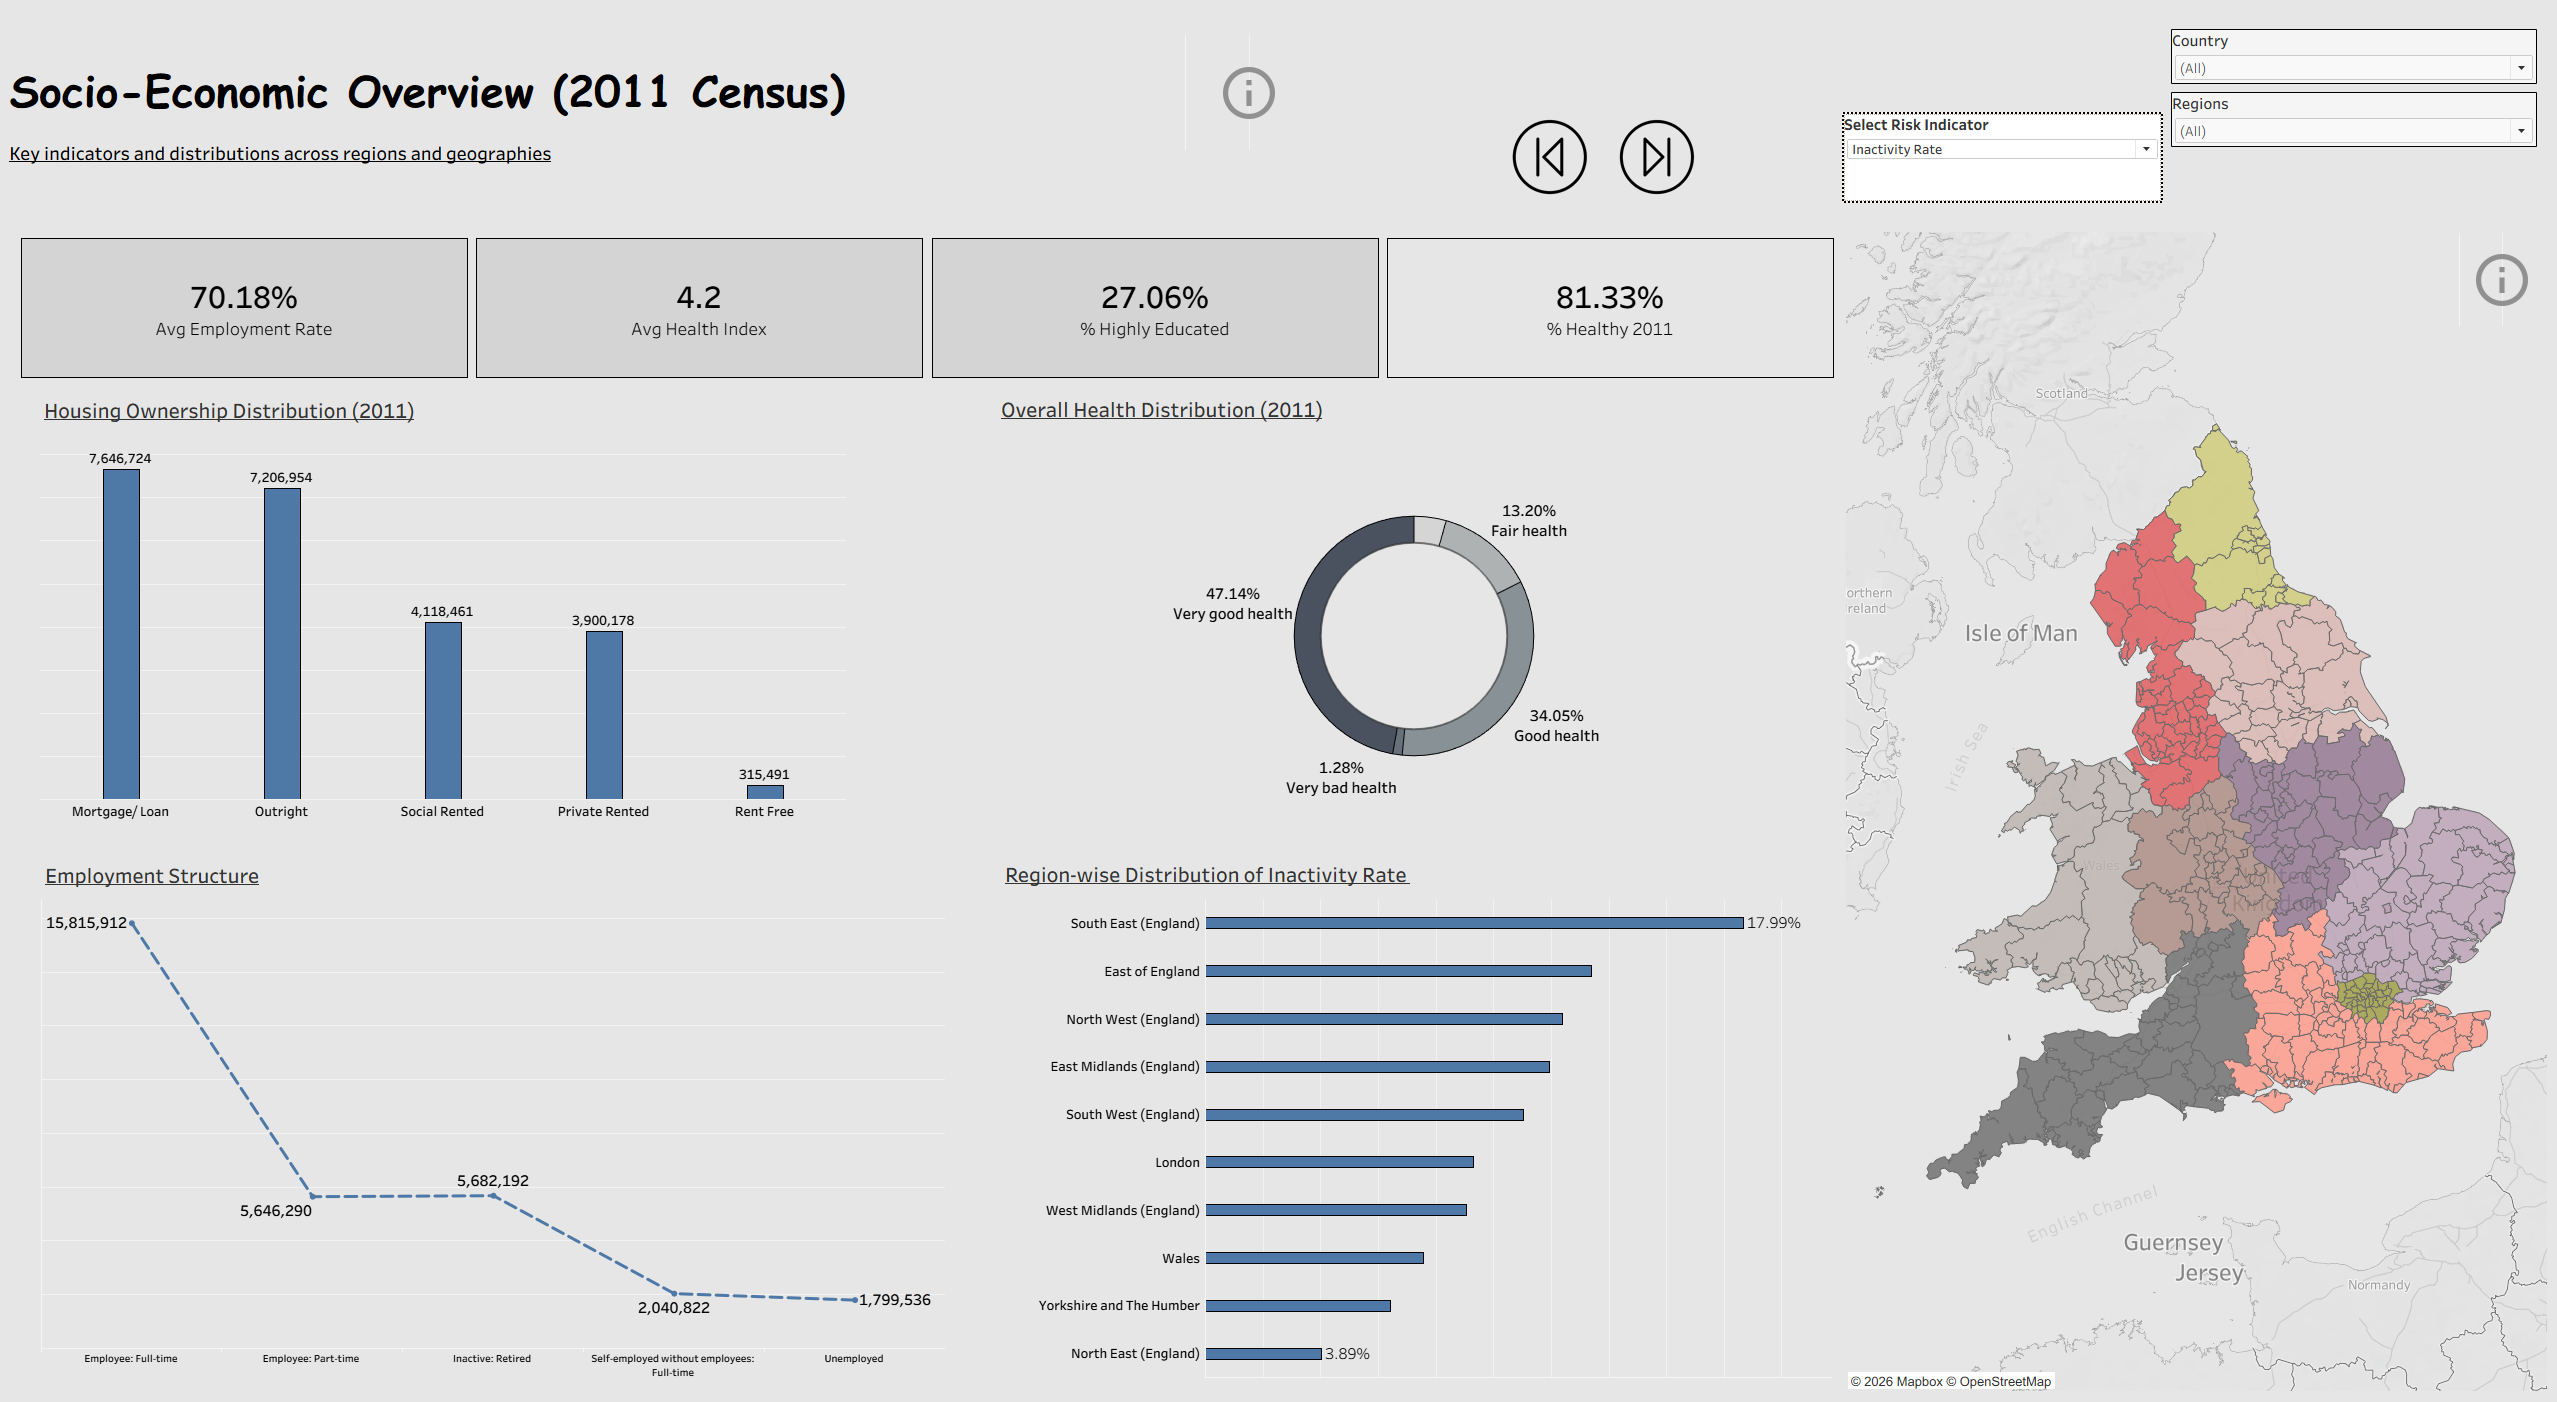

The page's visual inventory and layout, read from the dashboard file:
{"tool":"tableau","page":{"name":"Overview","canvas":[1000,1000],"units":"permille","ordinal":1},"visuals":[{"type":"text","box":[2.5,7.4,992.9,146.3]},{"type":"filter","title":"uk map (for aoverview and projection)","param":"[federated.1a80vjf1ezh7yy1eq0o840h0tbf4].[none:Calculation_952792859709722624:nk","box":[846.5,17.6,146,61.8]},{"type":"worksheet","title":"info icon sheet (for desc. of first dashboard)","mark":"Shape","cols":["Calculation_1832402163825782784"],"box":[463,24.9,49.9,82.3]},{"type":"dashboard-object","box":[584.3,73.2,35.3,75.9]},{"type":"dashboard-object","box":[619.6,73.2,35.3,75.9]},{"type":"filter","title":"uk map (for aoverview and projection)","param":"[federated.1a80vjf1ezh7yy1eq0o840h0tbf4].[none:Regions:nk]","box":[846.5,79.3,146,61.8]},{"type":"parameter","param":"[Parameters].[Parameter 1]","box":[719.7,79.6,125.2,64.8]},{"type":"worksheet","title":"uk map (for aoverview and projection)","mark":"Multipolygon","box":[720.7,164.8,274.8,827.8]},{"type":"worksheet","title":"info icon sheet (for first and second ds)","mark":"Shape","cols":["Calculation_1832402163825782784"],"box":[960.6,165.7,33.3,66.7]},{"type":"worksheet","title":"employment kpi (1,2)","mark":"Text","box":[6.6,166.7,177.9,105.6]},{"type":"worksheet","title":"Health Index KPI (1,2)","mark":"Text","box":[184.5,166.7,177.9,105.6]},{"type":"worksheet","title":"Highly educated pct kpi","mark":"Text","box":[362.4,166.7,177.9,105.6]},{"type":"worksheet","title":"healthy pct 2011 kpi (1,2)","mark":"Text","box":[540.3,166.7,177.9,105.6]},{"type":"worksheet","title":"health (2011) (1)","mark":"Circle","rows":["Calculation_826410595120959493","Calculation_826410595120967687"],"box":[389.4,278.7,325.8,318.5]},{"type":"worksheet","title":"household comparisons (2011)","mark":"Automatic","rows":["population (housing_pivot_2011.csv)"],"cols":["housing_category"],"box":[15.7,279.6,314.7,318.5]},{"type":"worksheet","title":"negative metric (1)","mark":"Automatic","rows":["Regions"],"cols":["Calculation_1986368974283218945"],"box":[390.9,610.2,324.8,378.7]},{"type":"worksheet","title":"employment (2011)","mark":"Line","rows":["population (economy_pivot_2011.csv)"],"cols":["economic_category"],"box":[16.2,611.1,353,378.7]}]}

Visuals, with their boxes on the dashboard's canvas, which has no fixed pixel size, in thousandths of its width and height (x1, y1, x2, y2). These are canvas units, not pixel positions in the 2557x1402 screenshot, which may show the page scaled, cropped or inside an application window:
text: [x1=2, y1=7, x2=995, y2=154]
"uk map (for aoverview and projection)" filter: [x1=846, y1=18, x2=992, y2=79]
"info icon sheet (for desc. of first dashboard)" worksheet (Shape marks): [x1=463, y1=25, x2=513, y2=107]
dashboard-object: [x1=584, y1=73, x2=620, y2=149]
dashboard-object: [x1=620, y1=73, x2=655, y2=149]
"uk map (for aoverview and projection)" filter: [x1=846, y1=79, x2=992, y2=141]
parameter: [x1=720, y1=80, x2=845, y2=144]
"uk map (for aoverview and projection)" worksheet (Multipolygon marks): [x1=721, y1=165, x2=996, y2=993]
"info icon sheet (for first and second ds)" worksheet (Shape marks): [x1=961, y1=166, x2=994, y2=232]
"employment kpi (1,2)" worksheet (Text marks): [x1=7, y1=167, x2=184, y2=272]
"Health Index KPI (1,2)" worksheet (Text marks): [x1=184, y1=167, x2=362, y2=272]
"Highly educated pct kpi" worksheet (Text marks): [x1=362, y1=167, x2=540, y2=272]
"healthy pct 2011 kpi (1,2)" worksheet (Text marks): [x1=540, y1=167, x2=718, y2=272]
"health (2011) (1)" worksheet (Circle marks): [x1=389, y1=279, x2=715, y2=597]
"household comparisons (2011)" worksheet: [x1=16, y1=280, x2=330, y2=598]
"negative metric (1)" worksheet: [x1=391, y1=610, x2=716, y2=989]
"employment (2011)" worksheet (Line marks): [x1=16, y1=611, x2=369, y2=990]
